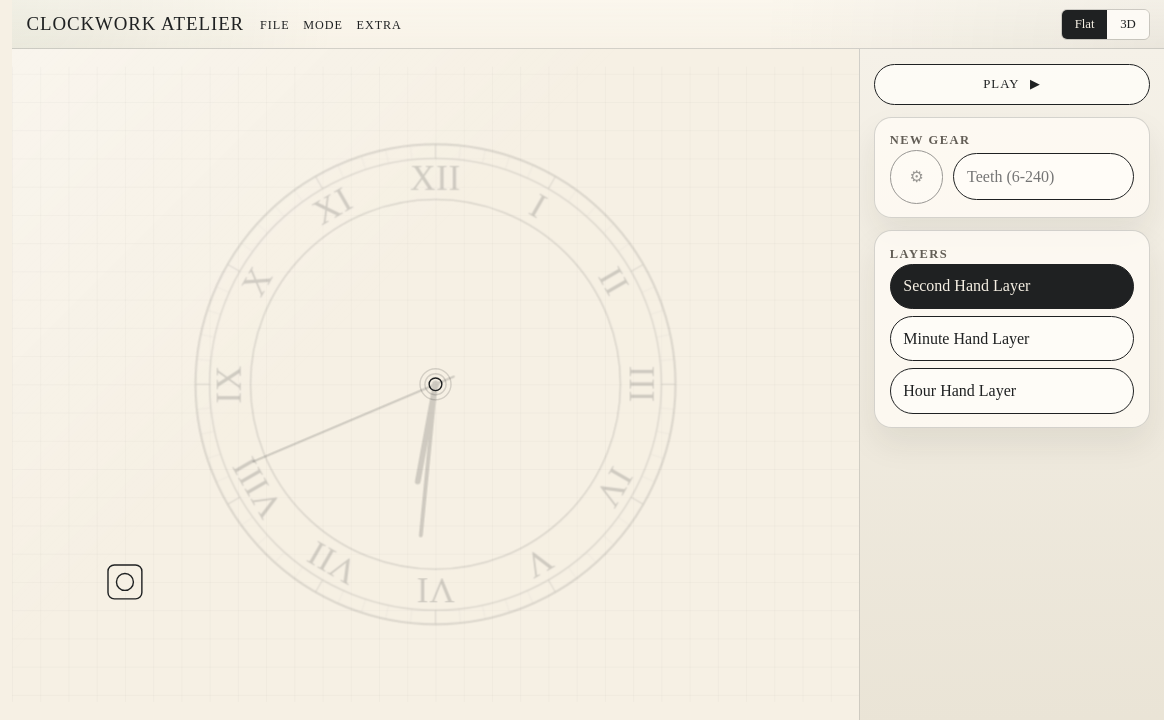
Test case: App › enables the optional clock complications from their checkboxes
This screenshot has width=1164, height=720.
Step 1. Click the button with test id "menu-trigger-extra" → (379, 25), box [353,14,405,36]
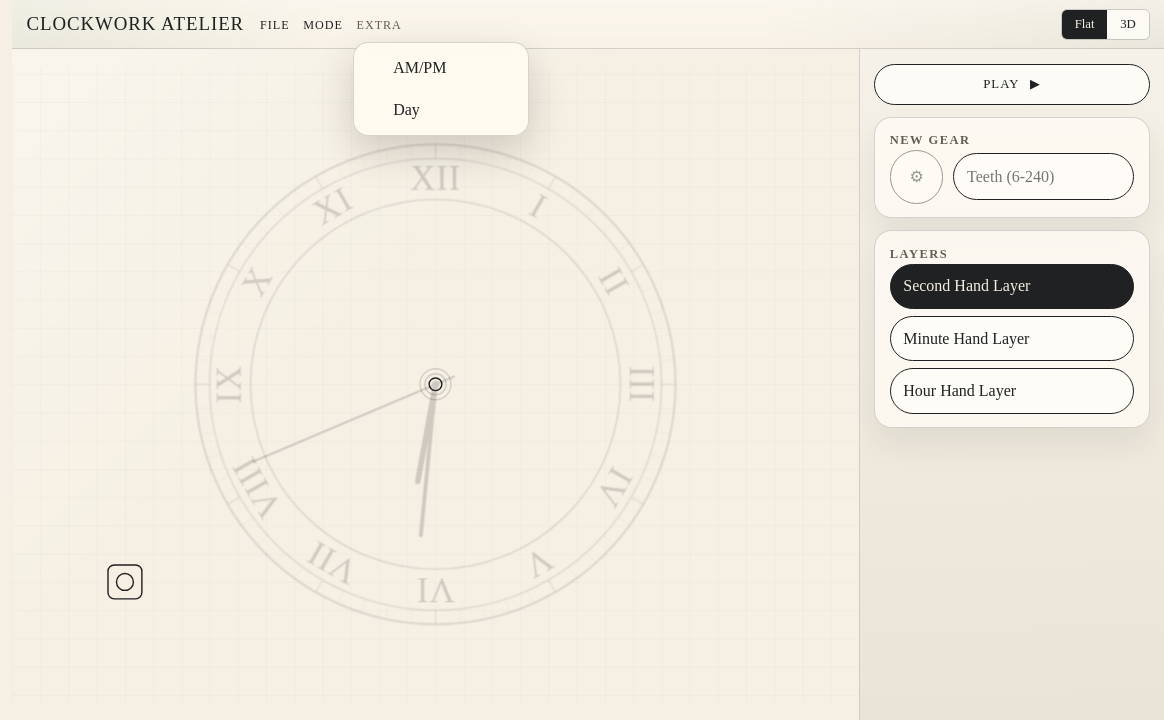
Step 2. Click the menu item "AM/PM" → (441, 68), box [360,49,523,88]
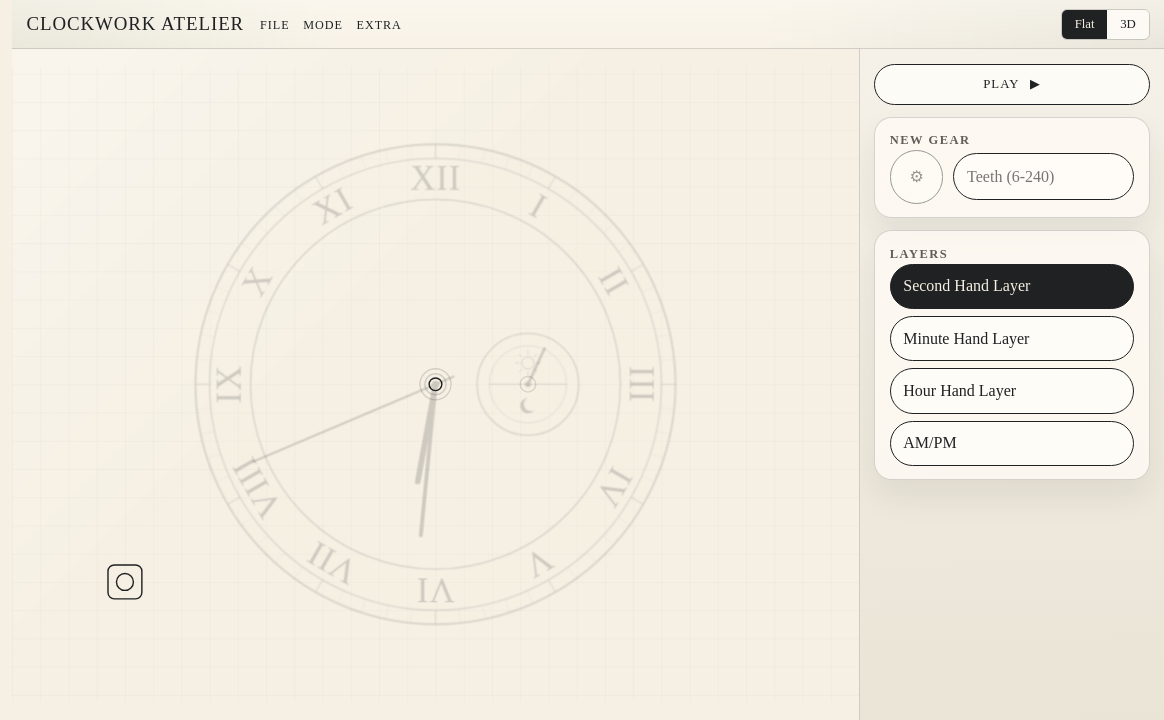
Expected: the element with test id "am-pm-dial" is shown, [477,334,579,436]
Expected: the button with test id "layer-button-4" reads "AM/PM", [890,421,1134,466]
Step 3. Click the button with test id "menu-trigger-extra" → (379, 25), box [353,14,405,36]
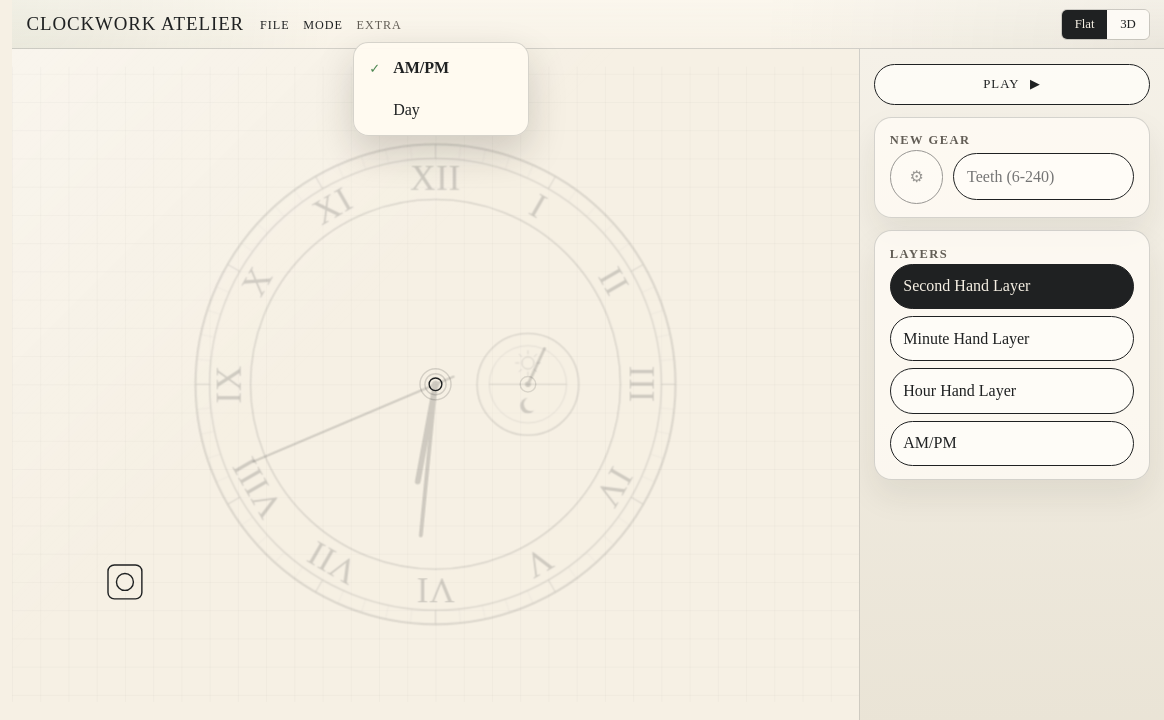
Step 4. Click the menu item "Day" → (441, 110), box [360,90,523,130]
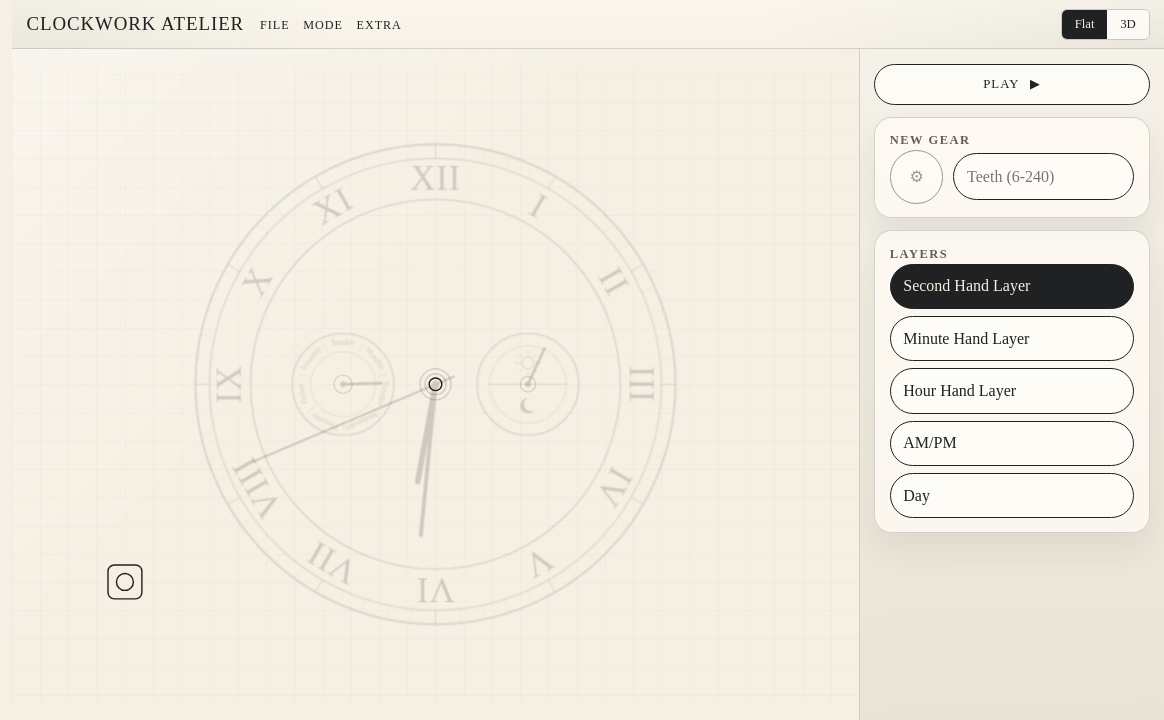
Expected: the element with test id "day-dial" is shown, [292,334,394,436]
Expected: the button with test id "layer-button-5" reads "Day", [890,473,1134,518]
